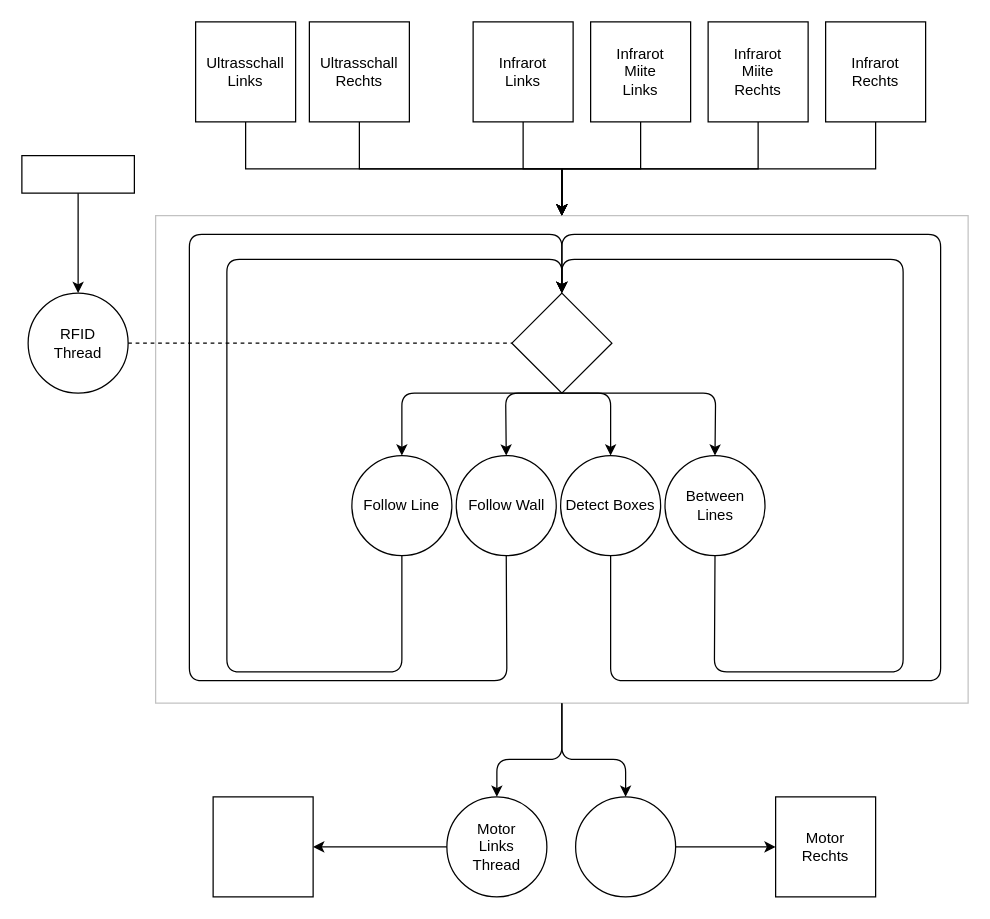
This 990x919 diagram has some shape labels left out. Here are the shapes that lost their labels. From the top down, the box of each, then its label:
(21, 154, 134, 193): RFID
(511, 292, 612, 393): MODE
(212, 796, 313, 897): Motor Links
(574, 796, 676, 897): Motor Rechts Thread
